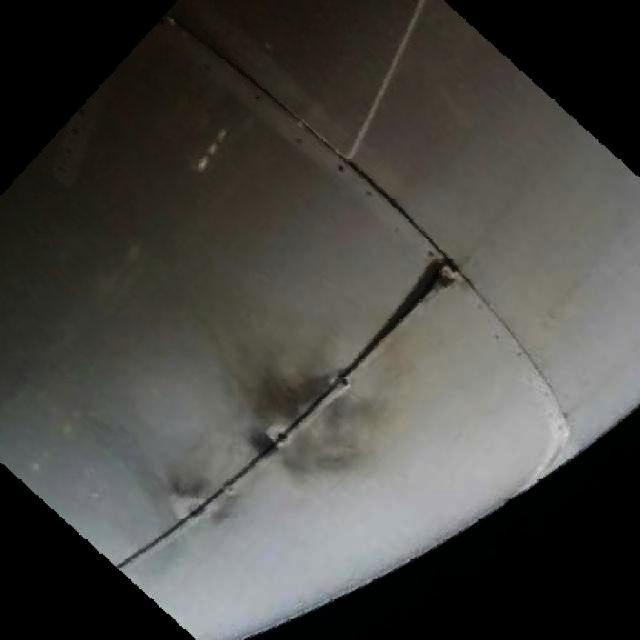crack: (344, 324, 389, 377), (400, 269, 440, 326)
